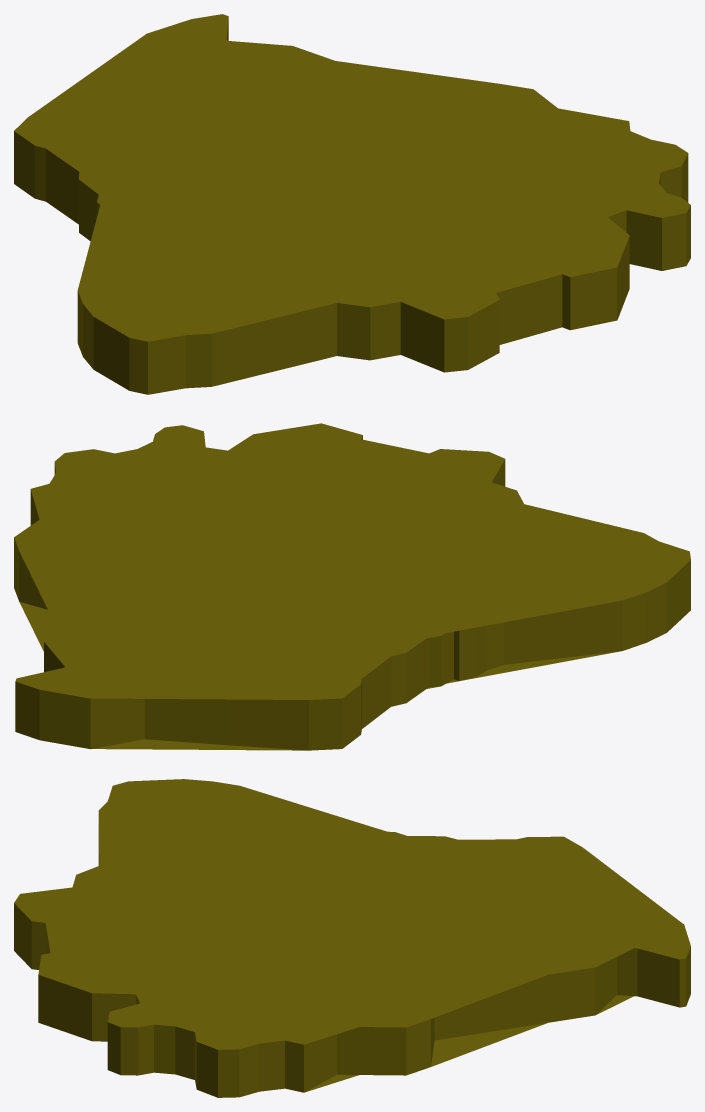
Rendered from punjab.fbx.
3 views of the same model, one above another, from view 1: azimuth 30°, elevation 25°; view 2: azimuth 150°, elevation 25°; view 3: azimuth 270°, elevation 25° (orthographic). The views are drawn at different scales.
Parts seen in each view (by area): view 1: Punjab; view 2: Punjab; view 3: Punjab.
Part boxes in pixels (left/top/right/bottom): Punjab: left=14, top=14, right=690, bottom=394; Punjab: left=14, top=423, right=690, bottom=750; Punjab: left=14, top=779, right=690, bottom=1097.
Bounding box in the file's own units: 41.14 × 3.4 × 43.46.
